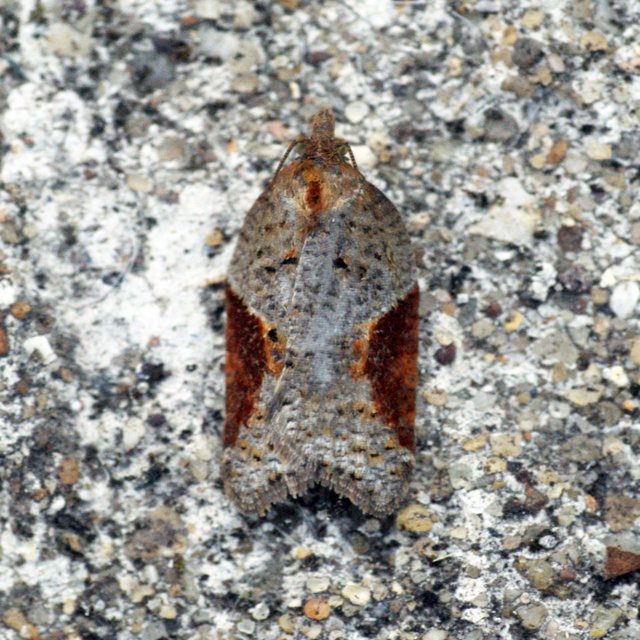Moths and butterflies: (212, 101, 422, 523)
